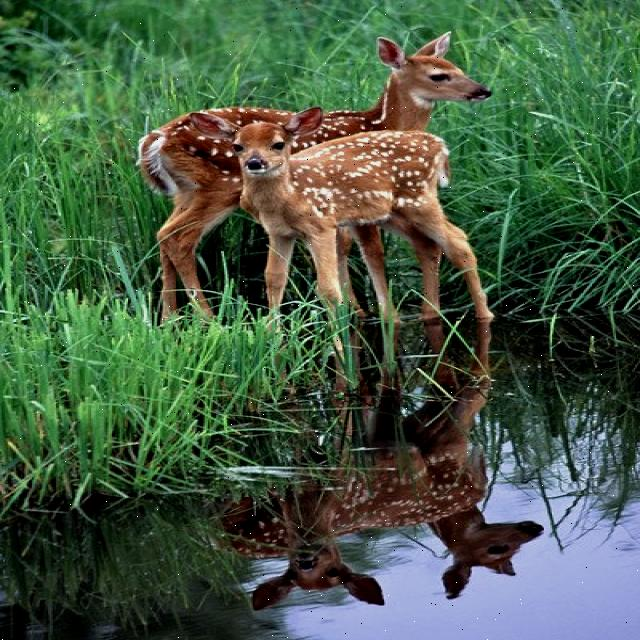deer: (350, 24, 490, 130), (207, 118, 329, 202)
